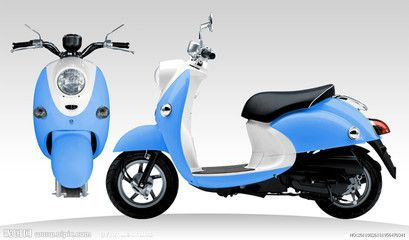non-vehicle: (108, 8, 399, 219), (13, 15, 138, 203)
